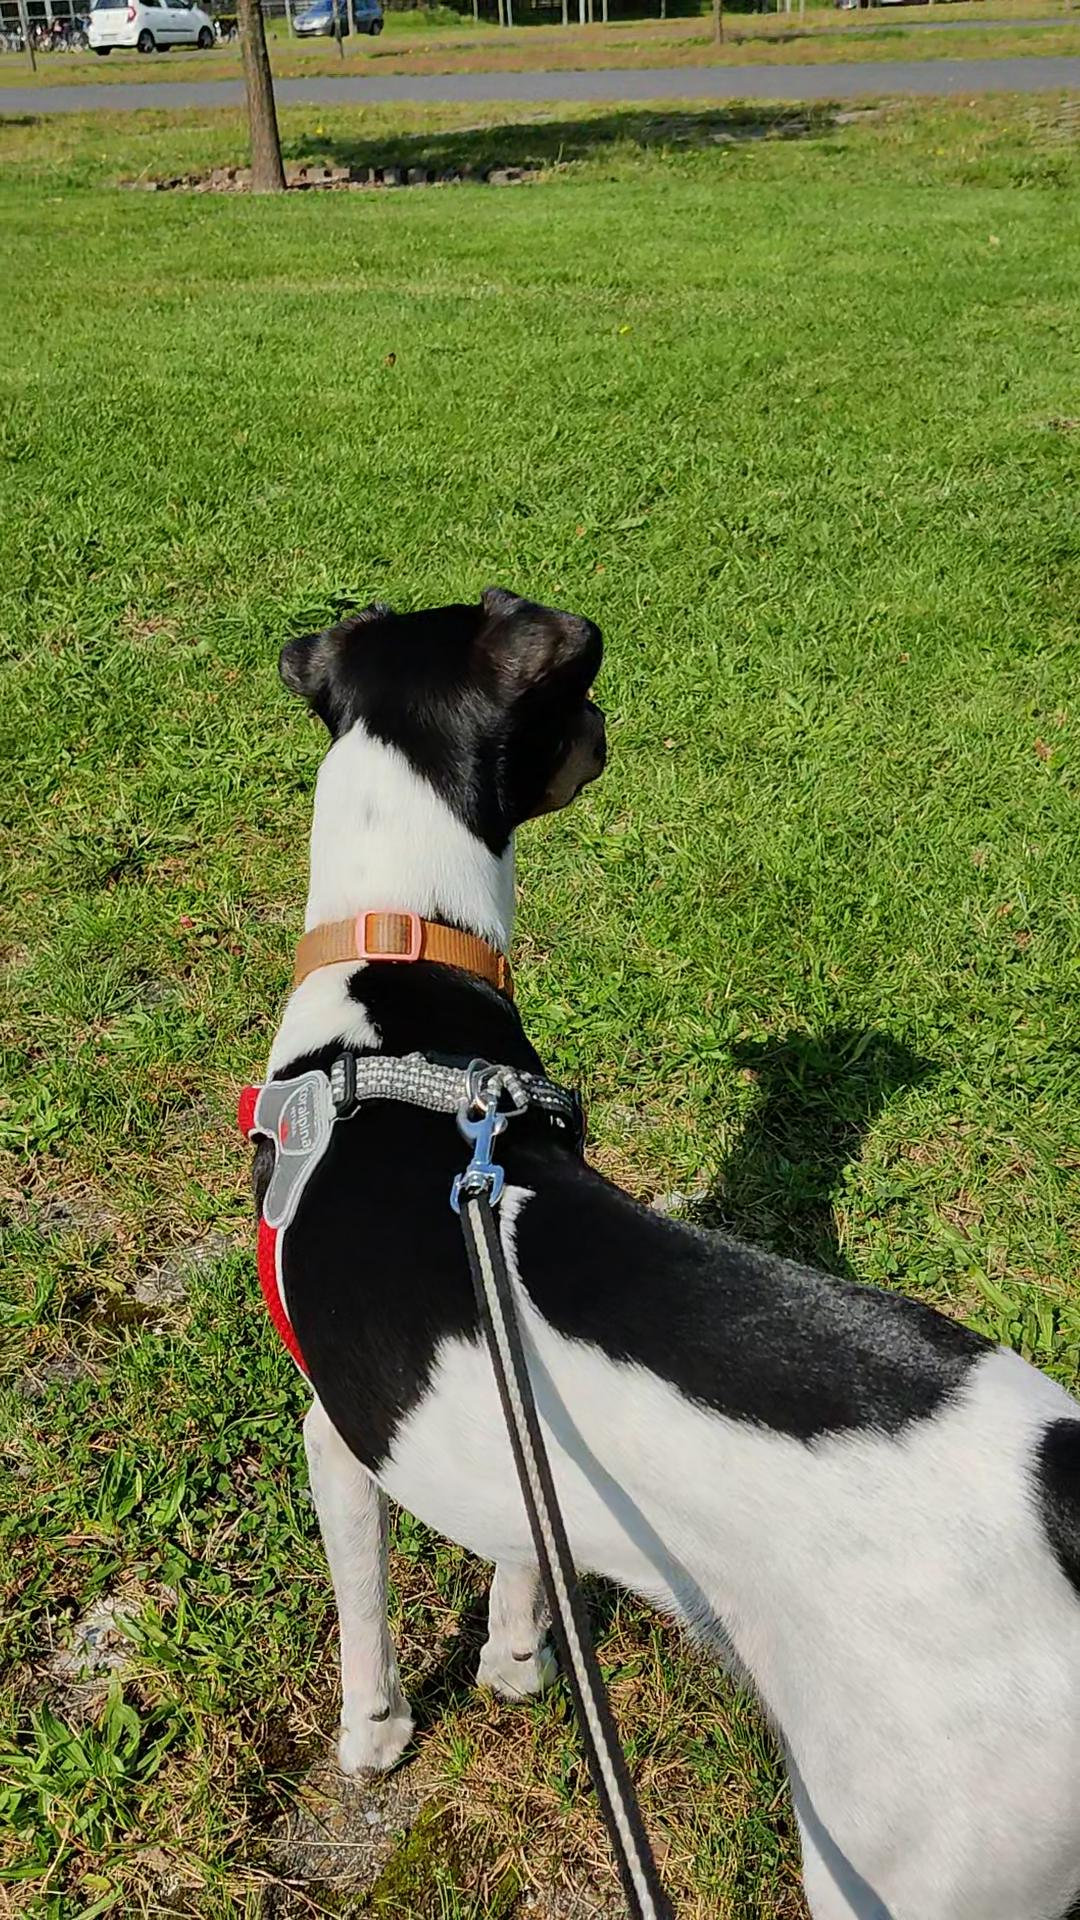Dog: (231, 580, 1079, 1919)
